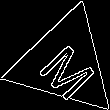M_NE: (29, 29, 99, 97)
